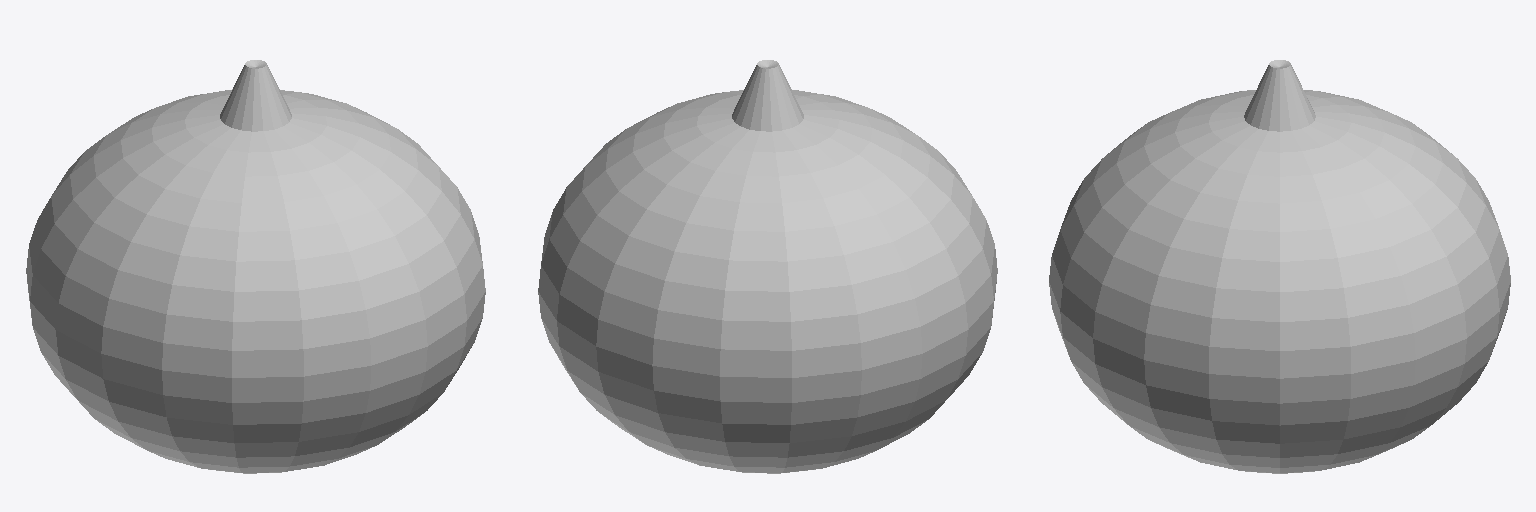
File: Onion.obj
3 views of the same model, side by side, from view 1: azimuth 30°, elevation 25°; view 2: azimuth 150°, elevation 25°; view 3: azimuth 270°, elevation 25° (orthographic).
Visible parts, largest first — view 1: Onion:pasted__pSphere1group; view 2: Onion:pasted__pSphere1group; view 3: Onion:pasted__pSphere1group.
Boxes of the visible parts, <box> form: Onion:pasted__pSphere1group: <box>26,60,485,473</box>; Onion:pasted__pSphere1group: <box>538,60,997,473</box>; Onion:pasted__pSphere1group: <box>1049,60,1510,473</box>.
Bounding box in the file's own units: 1.5 × 1.37 × 1.5.